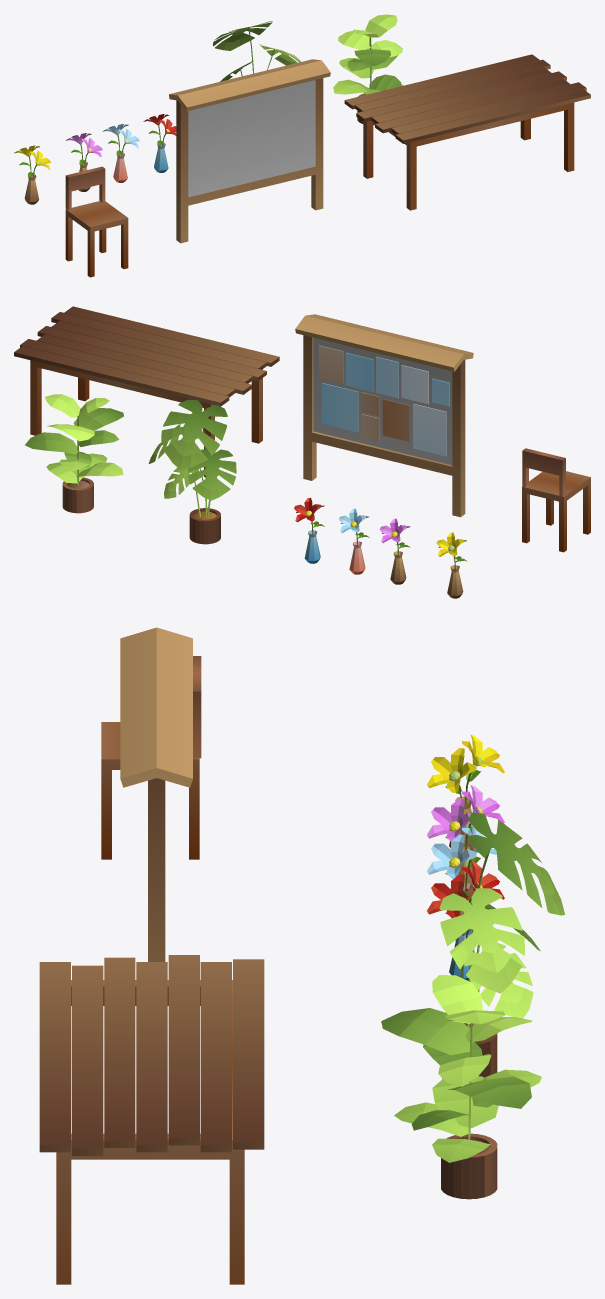
File: Peralatan dan Tanaman.fbx
3 renders of one model, top to bottom at view 1: azimuth 30°, elevation 25°; view 2: azimuth 150°, elevation 25°; view 3: azimuth 270°, elevation 25°, orthographic. The views are drawn at different scales.
Parts seen in each view (by area): view 1: Papan, Meja, Kursi, Circle.009, Plane.005, Circle.003, Circle.002, Circle.007, Circle.001; view 2: Papan, Meja, Plane.005, Circle.009, Kursi, Circle.003, Circle.001, Circle.007, Circle.002; view 3: Meja, Circle.009, Papan, Plane.005, Kursi, Circle.003, Circle.001, Circle.007, Circle.002.
Part boxes in pixels (<box>): Papan: <box>169,59,330,243</box>; Meja: <box>344,54,590,210</box>; Kursi: <box>65,166,128,277</box>; Circle.009: <box>333,14,403,125</box>; Plane.005: <box>213,21,300,81</box>; Circle.003: <box>14,145,51,204</box>; Circle.002: <box>102,124,139,182</box>; Circle.007: <box>143,114,176,172</box>; Circle.001: <box>65,133,102,191</box>; Papan: <box>295,314,473,517</box>; Meja: <box>14,306,279,477</box>; Plane.005: <box>148,399,236,544</box>; Circle.009: <box>25,394,123,513</box>; Kursi: <box>522,448,590,552</box>; Circle.003: <box>436,532,467,598</box>; Circle.001: <box>379,518,410,584</box>; Circle.007: <box>294,497,324,563</box>; Circle.002: <box>338,508,369,574</box>; Meja: <box>39,955,264,1284</box>; Circle.009: <box>381,975,541,1199</box>; Papan: <box>120,627,192,961</box>; Plane.005: <box>439,812,564,1078</box>; Kursi: <box>101,656,201,859</box>; Circle.003: <box>427,735,504,849</box>; Circle.001: <box>427,785,504,890</box>; Circle.007: <box>427,861,504,980</box>; Circle.002: <box>427,824,496,940</box>.
Bounding box in the file's own units: 573 × 165 × 266.
